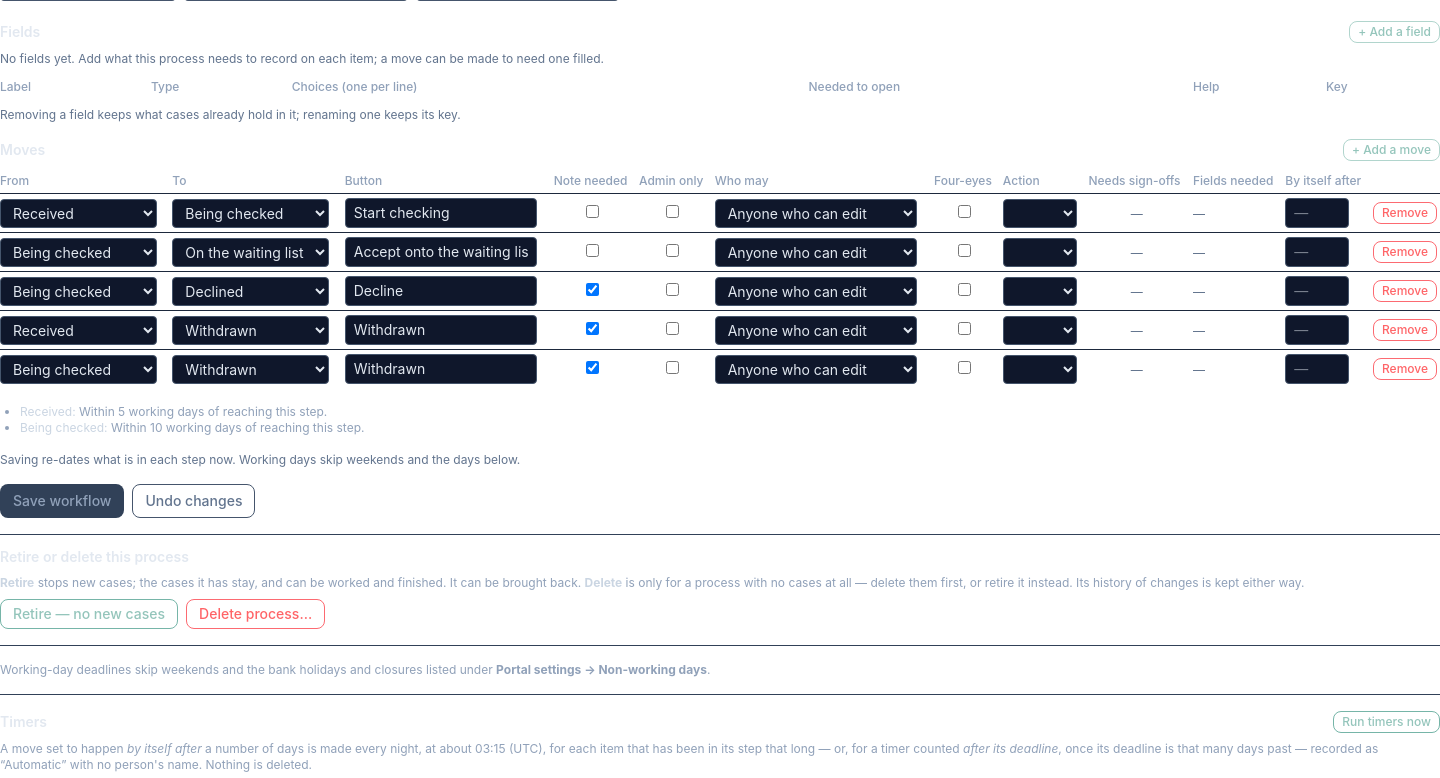
Test: Admin → Workflows › a Cases process can be retired, and says so
(page scrolled)
Click the button "Retire — no new cases". click: (89, 614)
box: [0,599,178,629]
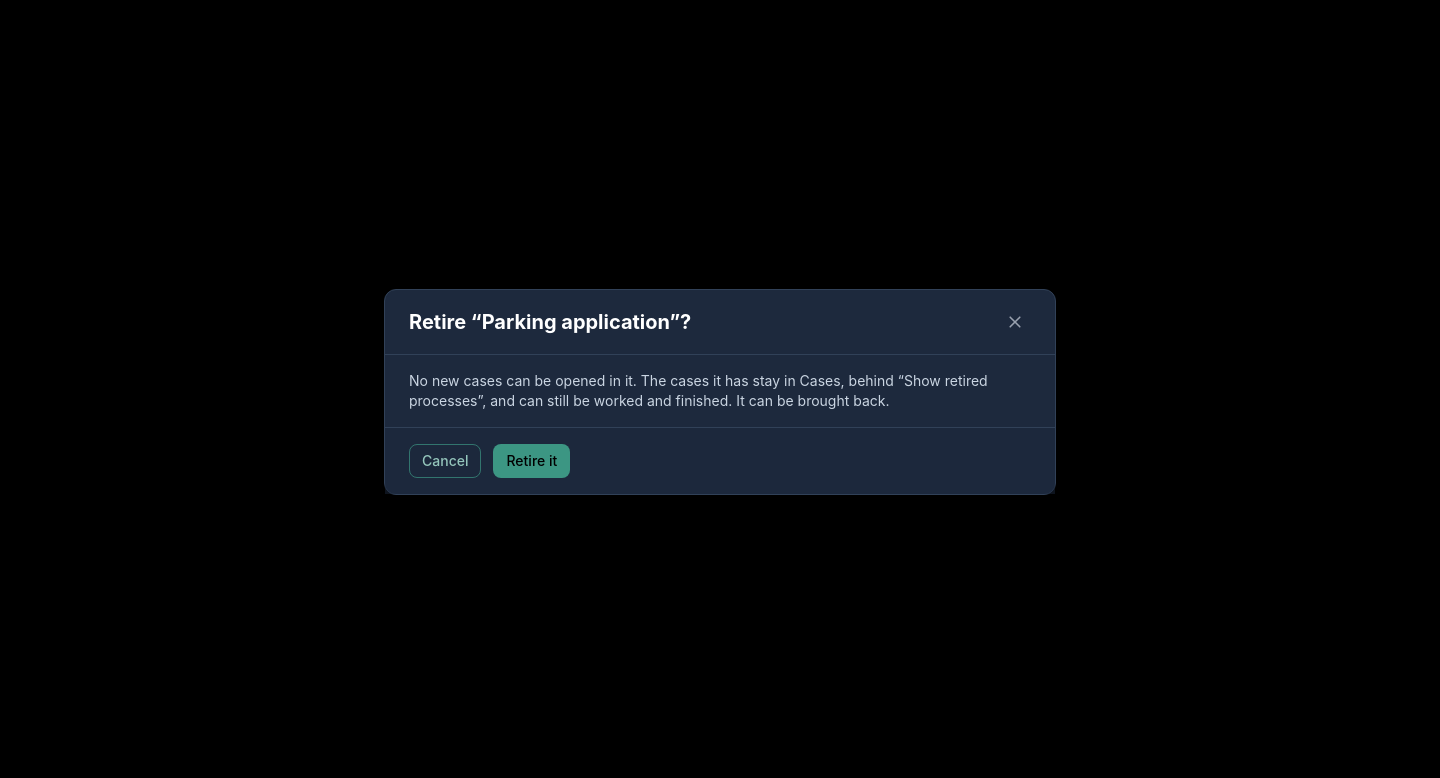
Click the button "Retire it". click: (532, 461)
box: [494,444,570,478]
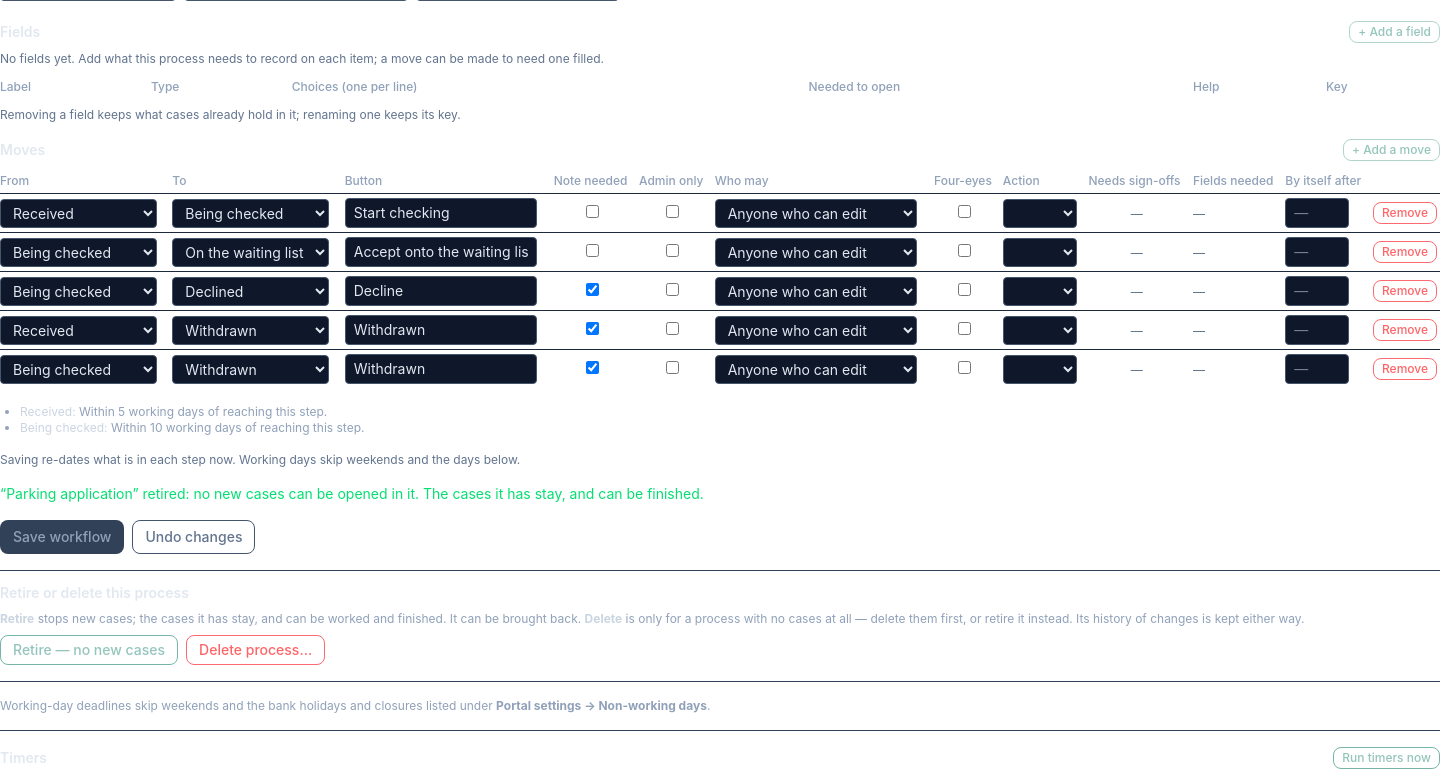
Result: the message shows "retired: no new cases" at [0,485,704,502]
